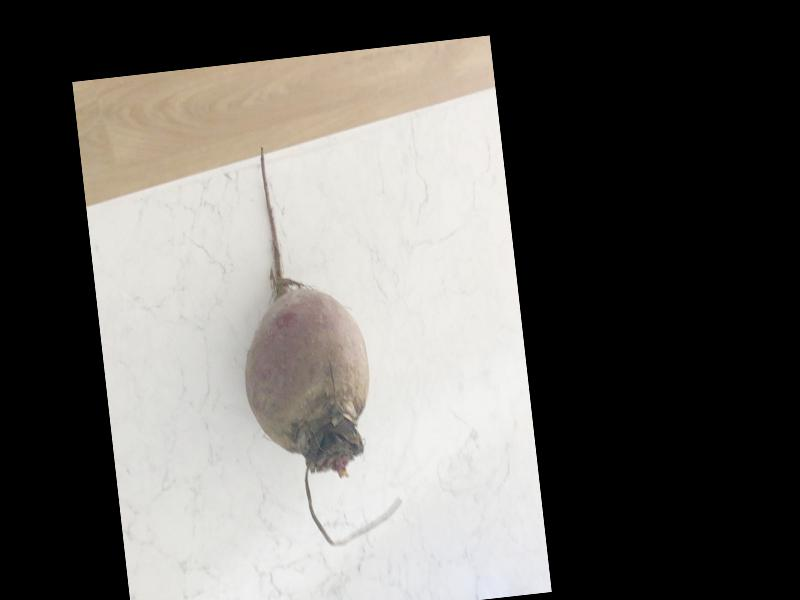Beet: (219, 134, 404, 552)
